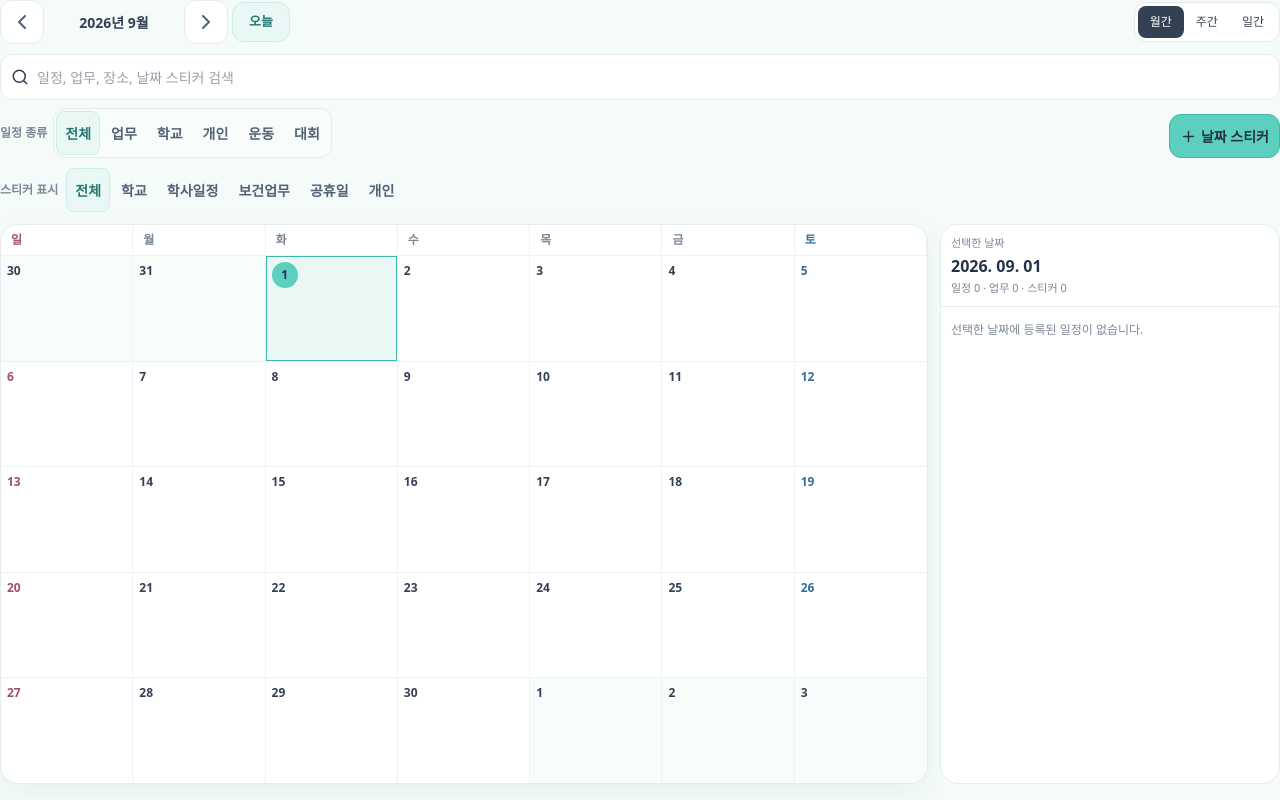
Test: CalendarWorkspace mobile date detail › shows the exact empty message in an empty mobile date sheet
Step 1. Click the button named "2026-09-08 선택" → (331, 384), box [272,368,391,400]
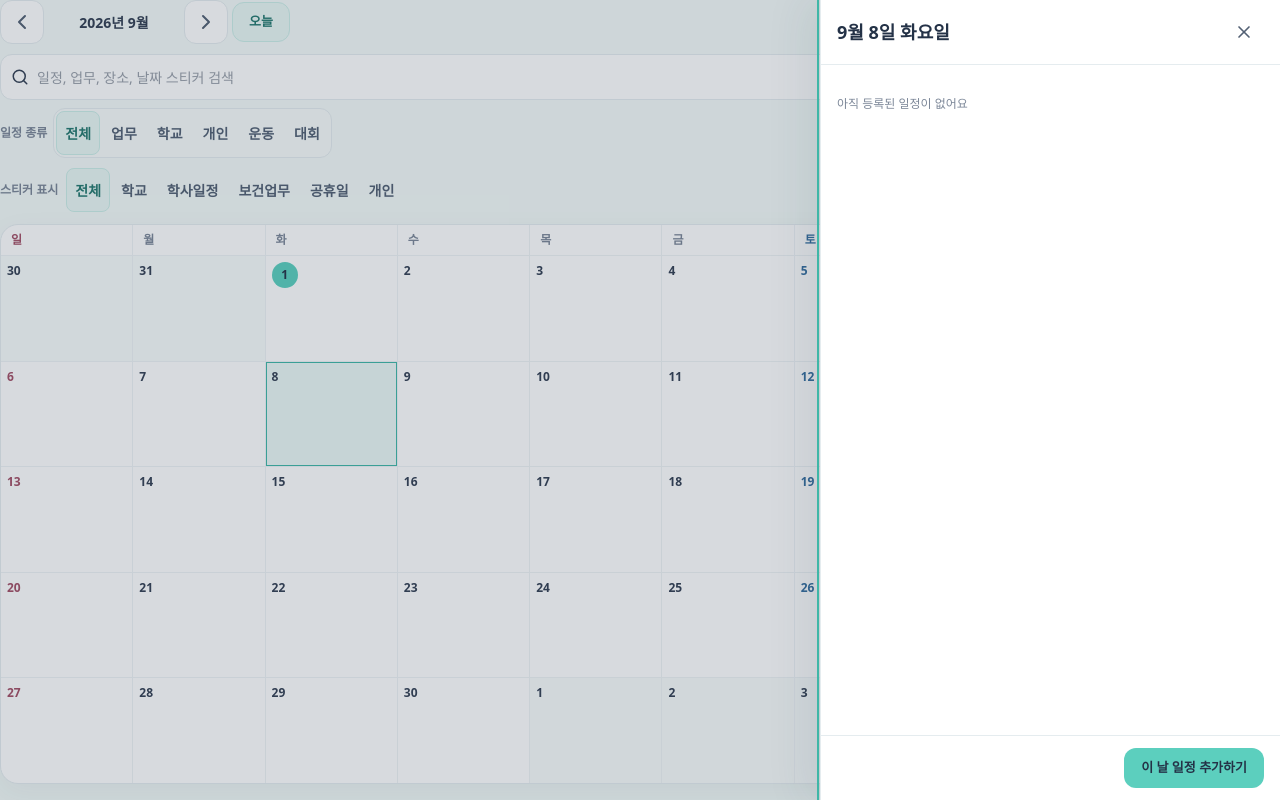
Expected: the dialog "9월 8일 화요일" shows "아직 등록된 일정이 없어요", [837,95,968,112]
